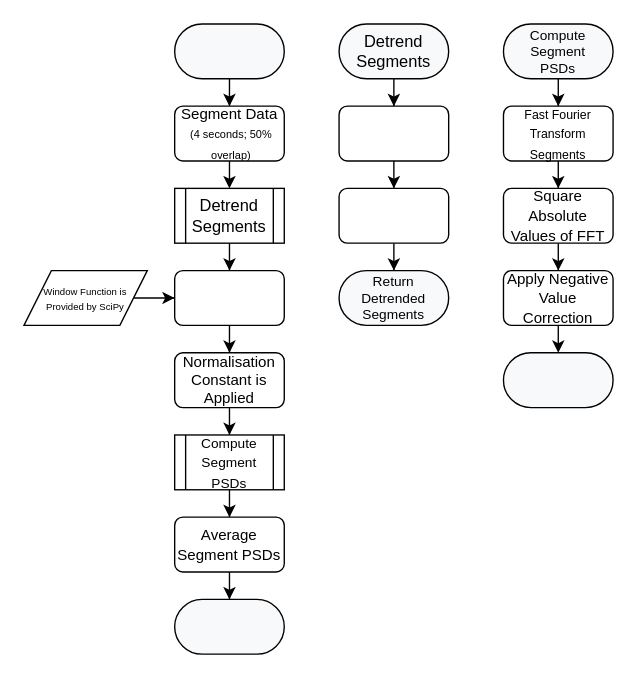
The diagram is 637 pixels wide and 678 high, and some of its shapes have lost their labels. The box of each missing label's shape, as (x1, y1, x2, y2) in pixels:
Compute Segment Means: (338, 105, 449, 161)
Return Segment PSDs: (502, 351, 613, 408)
Subtract Segment Means: (338, 187, 449, 243)
Welch PSD Function is Called: (173, 23, 284, 79)
Welch PSD is Returned by Function: (173, 598, 284, 654)
Window Function is Applied to each Segment: (173, 269, 284, 325)
